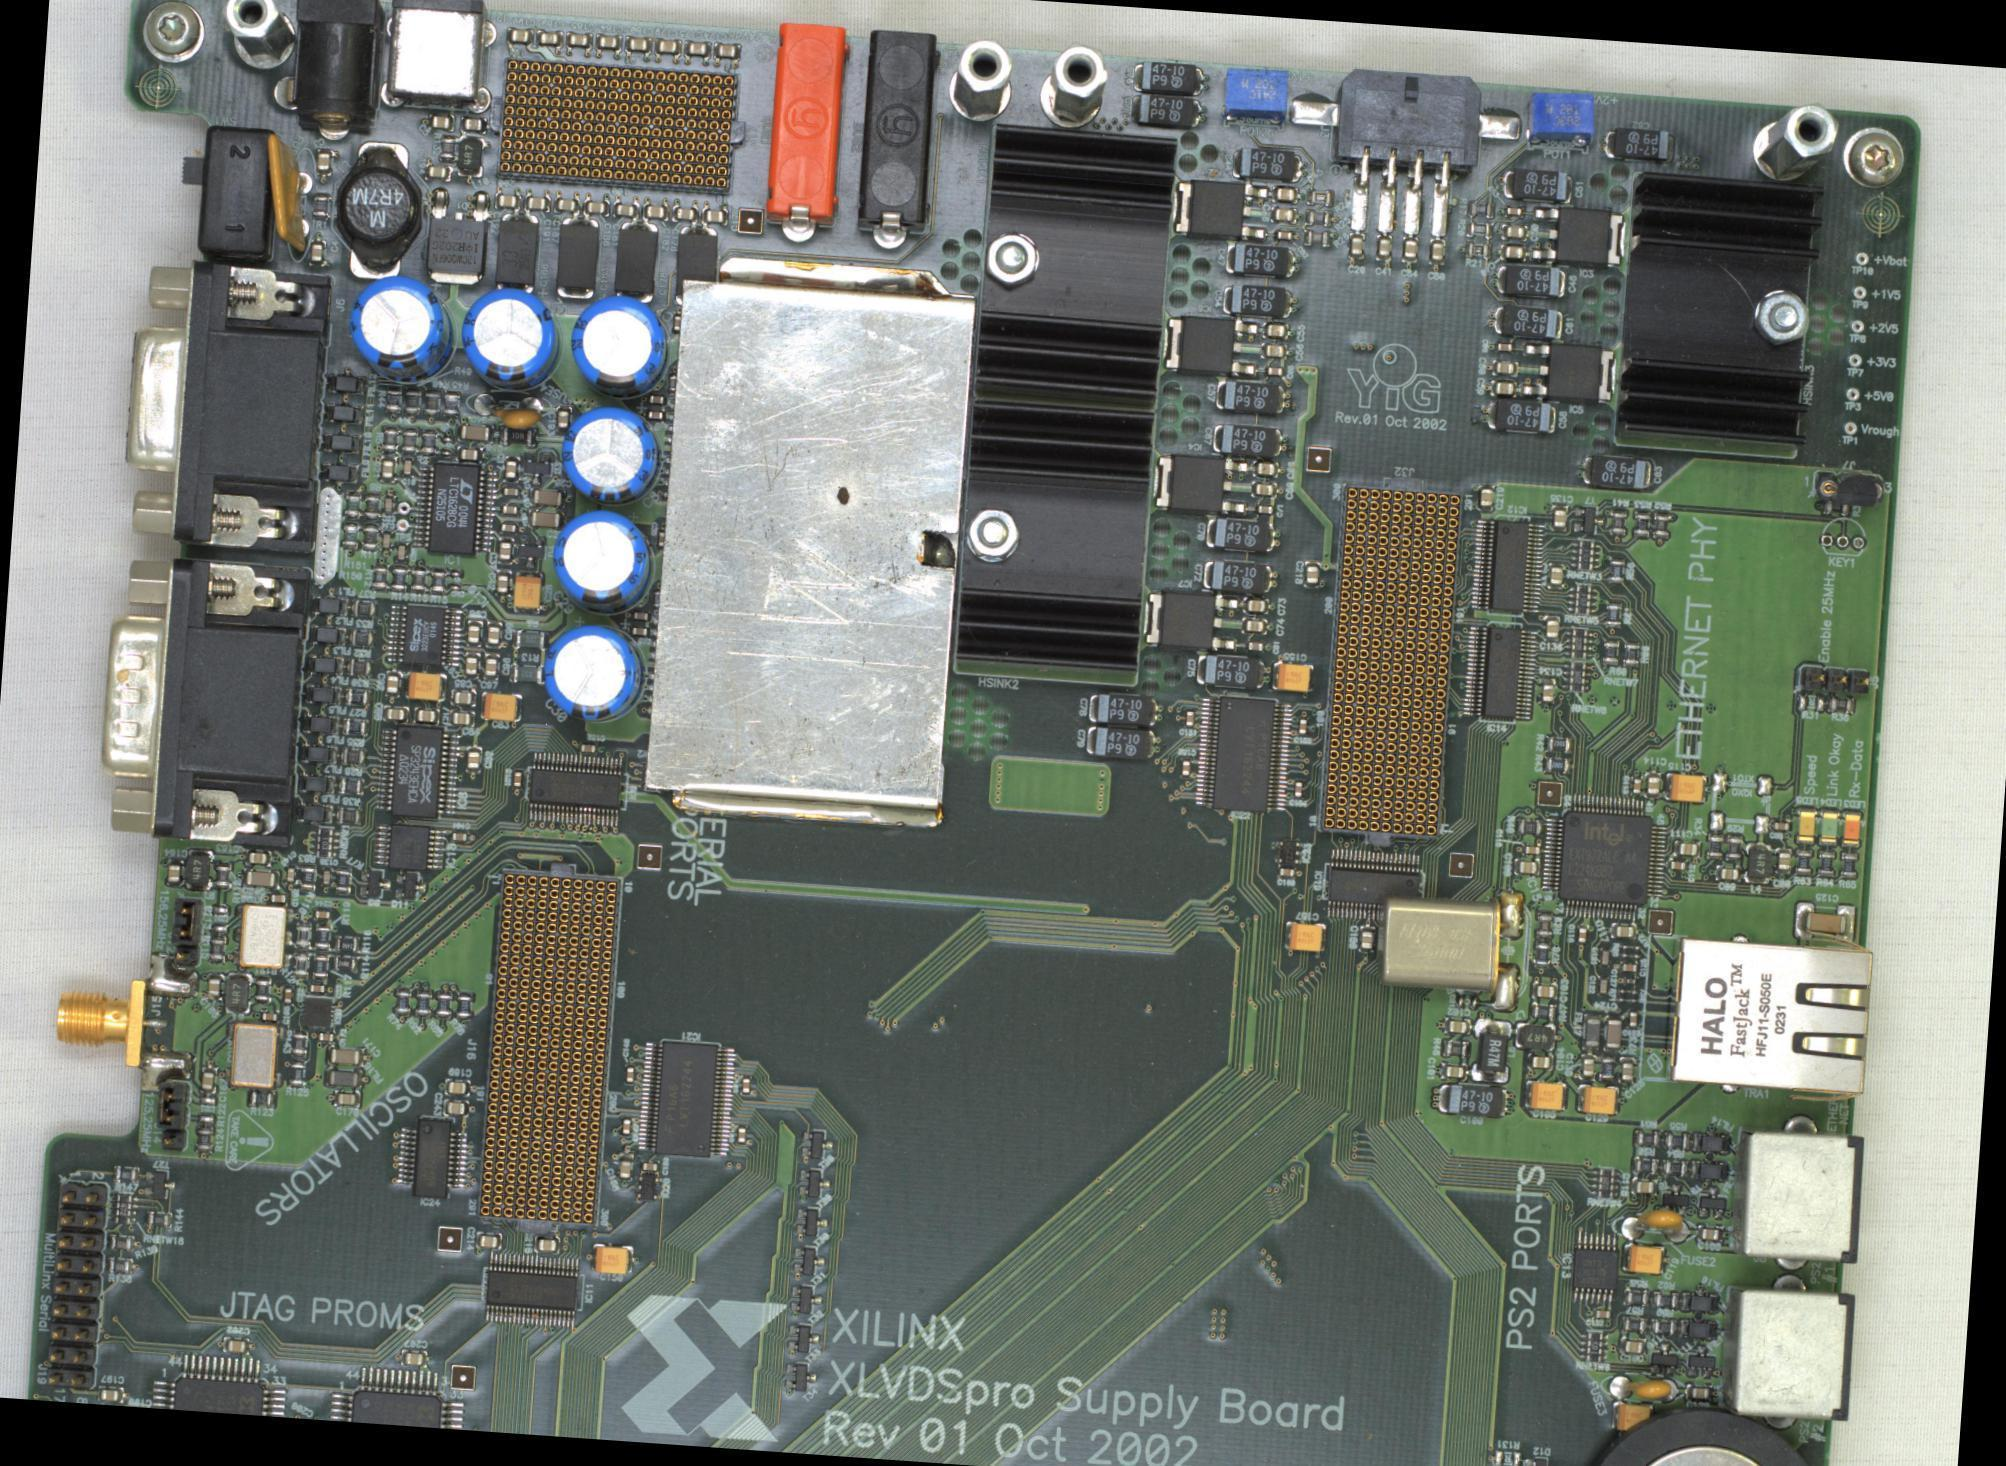Capacitor: (1790, 898, 1857, 943), (325, 1043, 364, 1067), (241, 872, 280, 894), (455, 422, 494, 444), (527, 509, 564, 529), (1601, 1014, 1622, 1051), (528, 487, 565, 507), (1239, 616, 1268, 635), (449, 687, 476, 707), (463, 745, 483, 773), (1439, 1060, 1467, 1080), (96, 1384, 124, 1403), (611, 200, 638, 220), (700, 206, 728, 226), (1302, 560, 1321, 589), (1671, 839, 1700, 858), (1441, 1016, 1470, 1035), (713, 41, 740, 60), (1512, 856, 1538, 876), (1249, 480, 1276, 500), (502, 453, 520, 482), (1544, 619, 1562, 646), (383, 670, 402, 698), (412, 705, 440, 725), (506, 26, 534, 45), (653, 37, 681, 56), (1609, 921, 1637, 939), (243, 848, 271, 866), (1357, 925, 1375, 954), (165, 859, 184, 887), (442, 1078, 470, 1096), (332, 1089, 360, 1108), (221, 1336, 249, 1355), (1270, 185, 1297, 204), (1269, 205, 1297, 224), (1262, 321, 1289, 339), (1489, 339, 1517, 358), (1488, 379, 1515, 397), (1475, 484, 1494, 512), (1549, 503, 1569, 531), (484, 620, 502, 649), (199, 1066, 217, 1095), (455, 444, 482, 463), (497, 537, 515, 564), (1241, 596, 1268, 615), (535, 28, 563, 47), (565, 30, 592, 49), (623, 35, 650, 53), (1772, 846, 1791, 873), (1531, 980, 1557, 999), (1525, 1051, 1552, 1071), (206, 972, 224, 999), (1630, 1177, 1657, 1195), (1499, 223, 1525, 241), (315, 148, 333, 175), (553, 196, 580, 215), (582, 198, 609, 217), (641, 202, 668, 221), (1490, 359, 1517, 377), (378, 456, 396, 484), (494, 569, 511, 597), (1538, 678, 1556, 705), (464, 619, 482, 647), (462, 650, 480, 677), (382, 705, 409, 723), (594, 33, 621, 50), (1577, 1053, 1595, 1081), (1696, 1224, 1724, 1242), (474, 1231, 501, 1248), (1684, 1383, 1711, 1401), (398, 1349, 426, 1367), (427, 113, 455, 131), (1375, 234, 1392, 262), (670, 205, 697, 223), (1251, 459, 1279, 477), (555, 406, 572, 434), (1427, 238, 1445, 264), (307, 238, 325, 264), (482, 652, 499, 679), (1643, 771, 1661, 798), (683, 40, 710, 58), (1714, 865, 1741, 882), (1616, 1056, 1634, 1083), (441, 1098, 468, 1116), (532, 1235, 559, 1253), (1619, 1336, 1646, 1354), (424, 163, 450, 180), (1499, 243, 1525, 260), (1347, 232, 1364, 258), (1400, 236, 1417, 262), (493, 191, 520, 209), (616, 1152, 632, 1180), (1547, 562, 1564, 588), (460, 116, 485, 133), (523, 194, 549, 212), (1261, 343, 1287, 360), (617, 1114, 632, 1137), (622, 1063, 635, 1086), (734, 1124, 748, 1146), (400, 457, 414, 478), (577, 741, 598, 755), (498, 521, 517, 536), (511, 767, 523, 790), (1253, 502, 1274, 516), (498, 503, 519, 517), (1667, 858, 1687, 872), (266, 892, 287, 906), (1243, 641, 1264, 652), (1629, 775, 1642, 796), (1769, 820, 1791, 832), (285, 863, 297, 885), (1625, 1008, 1638, 1027), (738, 1076, 752, 1095), (638, 1159, 658, 1173), (1576, 923, 1587, 945), (1179, 758, 1192, 779), (1291, 778, 1303, 797), (1520, 844, 1540, 857), (448, 830, 469, 843), (307, 982, 327, 994), (281, 983, 293, 1004), (259, 1009, 279, 1022), (1503, 205, 1523, 218), (1295, 716, 1308, 734), (502, 486, 520, 498), (383, 496, 395, 514), (315, 1030, 334, 1042), (1592, 1307, 1611, 1319), (1596, 976, 1608, 996), (1274, 231, 1294, 241), (381, 531, 392, 550), (1184, 708, 1194, 726), (1275, 866, 1295, 877), (1599, 946, 1609, 967), (1620, 961, 1638, 972), (311, 909, 330, 919), (1265, 366, 1284, 377), (645, 410, 664, 421), (395, 542, 405, 562), (647, 394, 665, 404), (630, 627, 647, 637), (672, 313, 680, 331), (656, 530, 663, 548), (1622, 976, 1635, 984), (633, 612, 647, 620)
Connector: (93, 551, 312, 850), (116, 257, 333, 553), (480, 851, 625, 1234), (1318, 473, 1464, 852), (1639, 919, 1875, 1103), (495, 58, 748, 196), (1726, 1108, 1867, 1278), (1717, 1268, 1858, 1435), (51, 946, 200, 1094), (851, 29, 943, 252), (765, 22, 851, 244), (267, 0, 386, 144), (43, 1174, 110, 1389), (379, 0, 500, 115), (1811, 469, 1883, 507), (1794, 664, 1868, 694), (1817, 530, 1867, 551), (161, 1127, 189, 1152), (174, 944, 199, 968)
Diode: (394, 870, 428, 901), (358, 867, 390, 898), (1521, 1455, 1557, 1465)
Electrolytic Capacitor: (342, 270, 461, 388), (454, 284, 569, 396), (547, 506, 657, 618), (566, 291, 675, 403), (557, 402, 666, 509), (537, 621, 649, 725), (555, 214, 598, 299), (675, 225, 718, 307), (495, 212, 539, 293), (616, 222, 658, 304), (1480, 397, 1556, 435), (1196, 652, 1270, 690), (1498, 167, 1572, 204), (1132, 61, 1208, 97), (1089, 691, 1164, 728), (1085, 724, 1161, 760), (1599, 127, 1675, 164), (1232, 146, 1307, 182), (1225, 241, 1301, 277), (1223, 284, 1297, 319), (1202, 560, 1278, 593), (1435, 1083, 1506, 1118), (1205, 517, 1280, 551), (1130, 93, 1206, 127), (1488, 306, 1562, 340), (1211, 422, 1287, 457), (1581, 453, 1650, 489), (1215, 378, 1289, 412), (1495, 265, 1565, 297), (1270, 661, 1313, 694), (1663, 771, 1706, 804), (511, 569, 542, 613), (404, 670, 447, 701), (1283, 920, 1327, 952), (1522, 1079, 1566, 1111), (1619, 1243, 1664, 1275), (590, 1243, 633, 1274), (1610, 1401, 1652, 1432), (478, 691, 522, 721), (1574, 1084, 1618, 1114)
IC: (1539, 791, 1667, 923), (637, 1037, 736, 1159), (1194, 693, 1292, 814), (375, 722, 459, 820), (412, 458, 495, 557), (522, 751, 629, 827), (478, 1251, 585, 1328), (1319, 847, 1426, 923), (1470, 512, 1544, 618), (1462, 619, 1535, 724), (1516, 339, 1616, 404), (1528, 206, 1627, 269), (1162, 312, 1259, 377), (395, 1113, 468, 1199), (1143, 589, 1240, 652), (1154, 452, 1249, 515), (1174, 177, 1269, 240), (386, 601, 461, 668), (1569, 1231, 1618, 1304), (372, 821, 444, 870), (301, 994, 334, 1028), (1272, 838, 1301, 867), (633, 1172, 660, 1201)
Inductor: (331, 142, 429, 280), (1469, 1016, 1512, 1083), (455, 136, 486, 178), (1743, 842, 1772, 885), (184, 848, 214, 891), (223, 972, 253, 1014), (1514, 1021, 1555, 1049)
Led: (1816, 807, 1839, 846), (1793, 806, 1816, 844), (1839, 809, 1861, 847)
Pads: (1708, 770, 1773, 833), (209, 904, 229, 934), (197, 1095, 216, 1123), (1797, 692, 1824, 711), (1491, 1449, 1520, 1465), (446, 567, 462, 591), (438, 434, 453, 460), (1455, 994, 1476, 1009)
Pins: (1579, 1329, 1607, 1361)
Resistor: (1283, 62, 1524, 241), (497, 424, 536, 448), (1575, 584, 1604, 617), (1570, 538, 1598, 571), (1590, 1166, 1618, 1199), (308, 825, 338, 857), (107, 1192, 137, 1223), (1564, 628, 1592, 659), (1562, 660, 1590, 692), (509, 662, 546, 684), (511, 628, 546, 649), (192, 1123, 213, 1153), (246, 1088, 277, 1107), (1838, 852, 1859, 880), (1826, 695, 1855, 715), (332, 933, 361, 954), (1440, 1038, 1470, 1058), (1650, 510, 1670, 539), (419, 426, 437, 456), (252, 976, 272, 1004), (310, 192, 330, 219), (388, 563, 407, 592), (213, 860, 232, 890), (392, 986, 411, 1016), (402, 387, 421, 416), (1608, 508, 1627, 535), (379, 424, 398, 451), (429, 565, 447, 593), (349, 599, 377, 617), (340, 748, 367, 766), (1794, 848, 1813, 875), (1535, 912, 1554, 939), (1597, 1054, 1615, 1082), (433, 990, 451, 1018), (111, 1164, 139, 1182), (144, 1209, 171, 1228), (1305, 187, 1333, 206), (343, 489, 360, 519), (209, 935, 226, 964), (414, 987, 432, 1017), (401, 426, 418, 455), (1543, 756, 1570, 774), (1515, 818, 1542, 836), (1704, 833, 1722, 860), (1816, 849, 1835, 876), (335, 807, 362, 825), (332, 955, 358, 973), (1632, 1156, 1658, 1174), (287, 1059, 306, 1086), (1622, 1289, 1648, 1307), (1620, 1315, 1646, 1334), (108, 1233, 134, 1251), (1464, 240, 1490, 258), (441, 389, 460, 416), (1629, 511, 1648, 538), (370, 561, 387, 592), (1608, 556, 1625, 584), (341, 523, 358, 551), (409, 565, 427, 593), (337, 777, 364, 794), (1533, 940, 1550, 968), (333, 866, 351, 895), (314, 923, 331, 951), (454, 991, 472, 1019), (1304, 208, 1331, 226), (423, 389, 441, 417), (1821, 499, 1849, 515), (1600, 640, 1618, 665), (1529, 1000, 1555, 1019), (1652, 1290, 1678, 1309), (1649, 1318, 1675, 1336), (1468, 200, 1494, 218), (384, 384, 401, 413), (360, 521, 377, 547), (348, 630, 374, 647), (1545, 735, 1572, 753), (343, 677, 369, 695), (341, 718, 368, 735), (313, 954, 330, 980), (1633, 1130, 1660, 1147), (1664, 1132, 1690, 1149), (290, 1030, 307, 1057), (1660, 1159, 1687, 1177), (106, 1255, 133, 1273), (1465, 221, 1492, 239), (1622, 640, 1639, 666), (1303, 229, 1329, 246), (364, 493, 380, 519), (1725, 834, 1742, 860), (300, 864, 316, 891), (439, 135, 455, 162), (292, 953, 309, 977), (346, 660, 373, 675), (1605, 603, 1621, 627), (667, 374, 675, 392), (1629, 988, 1637, 1003), (1633, 945, 1641, 959), (1617, 988, 1625, 1002), (1621, 944, 1627, 956)
Switch: (175, 121, 281, 259)
Transistor: (424, 186, 489, 285), (794, 1205, 828, 1237), (521, 452, 553, 487), (515, 533, 546, 569), (798, 1167, 831, 1198), (788, 1283, 822, 1315), (1648, 1342, 1679, 1375), (801, 1128, 834, 1159), (142, 1168, 175, 1199), (793, 1244, 826, 1276), (786, 1321, 819, 1353), (783, 1361, 816, 1393), (1685, 1344, 1715, 1379), (1572, 503, 1603, 535), (1699, 1184, 1727, 1219), (1660, 1181, 1689, 1213)
